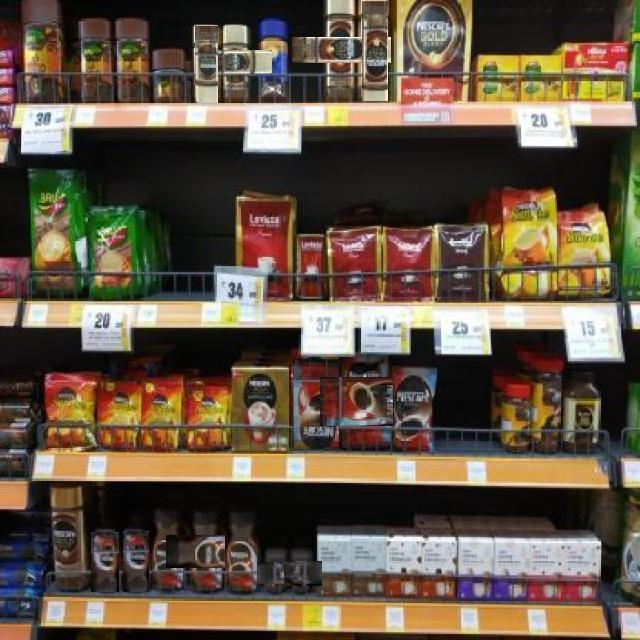Coffee: (320, 377, 411, 426), (292, 358, 339, 449), (48, 377, 95, 449), (393, 370, 433, 453), (52, 487, 83, 591), (361, 0, 388, 101), (152, 509, 184, 593), (166, 534, 245, 568), (225, 511, 258, 592), (291, 37, 391, 63), (194, 25, 218, 103), (197, 51, 272, 74), (91, 531, 119, 592), (122, 530, 149, 592), (284, 561, 322, 586), (257, 562, 295, 584)
